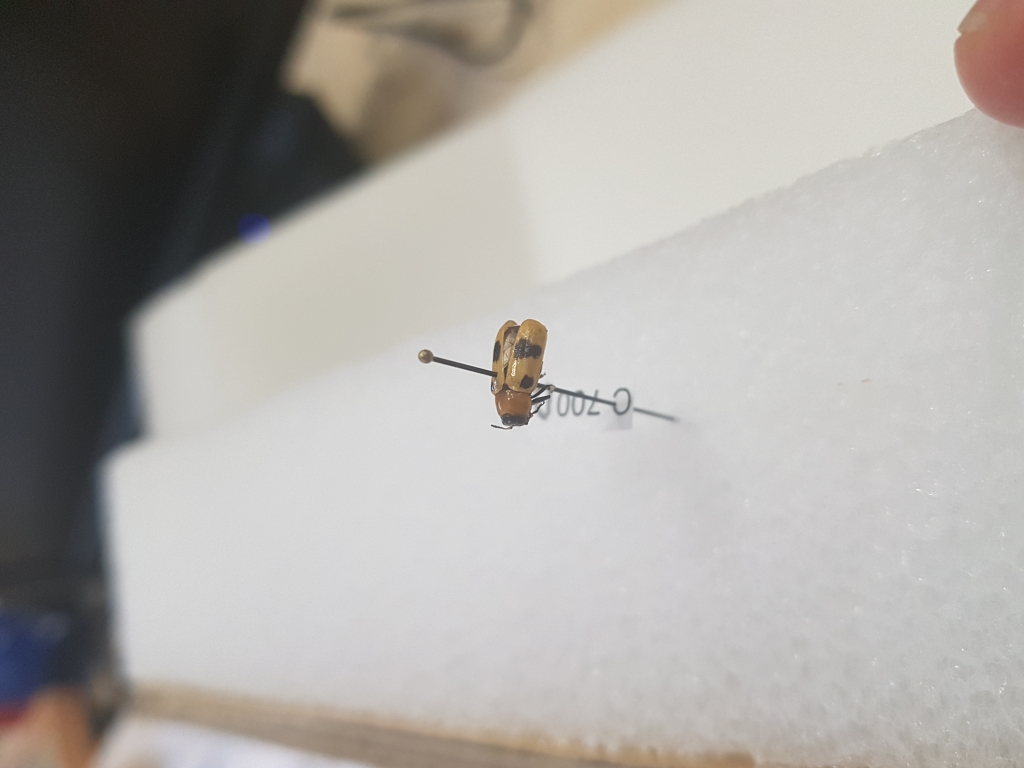Tituboea_macropus: (484, 316, 558, 435)
